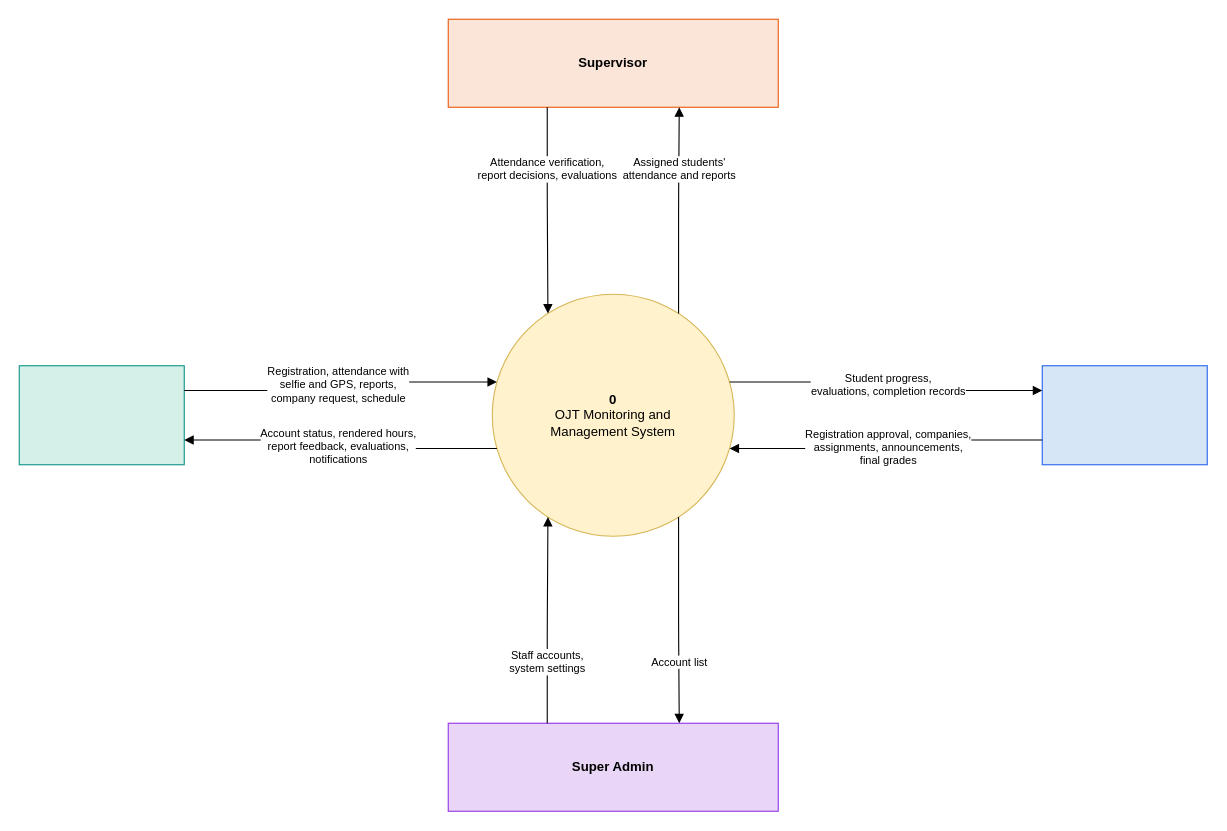
Some shapes in this 1227 by 831 pixel diagram are drawn without their labels. The centre of each missing label's shape, as x and y in pixels:
OJT Coordinator: (1124,415)
OJT Student: (101,415)
